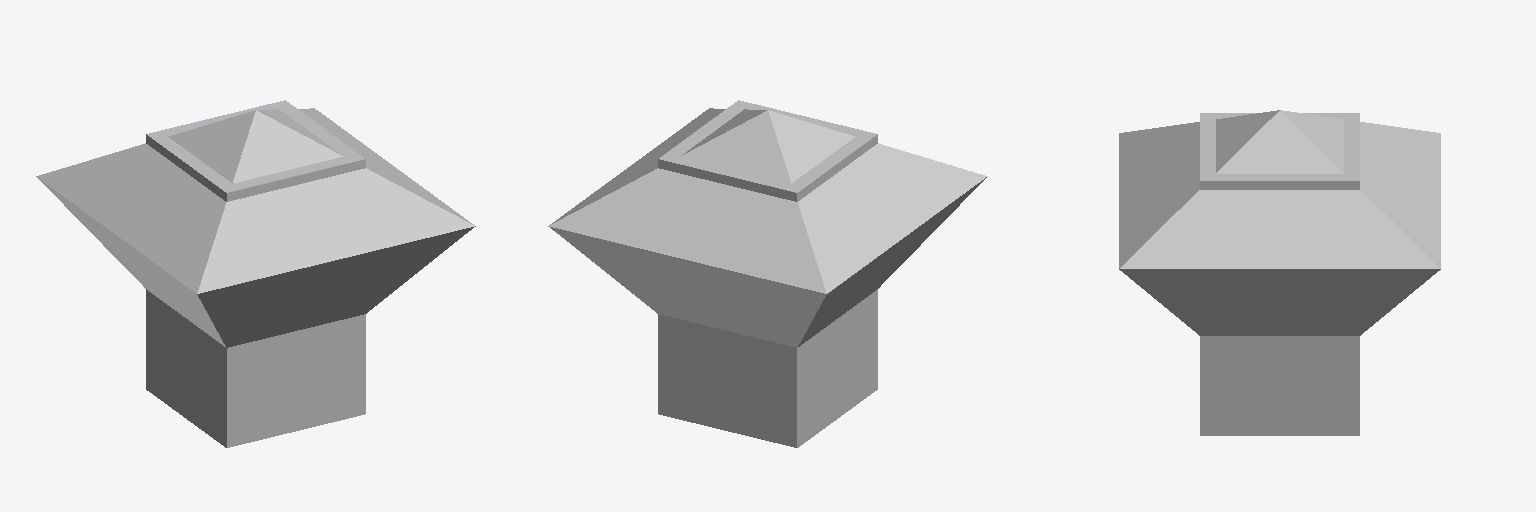
Rendered from block_woodburner.obj.
3 views of the same model, side by side, from view 1: azimuth 30°, elevation 25°; view 2: azimuth 150°, elevation 25°; view 3: azimuth 270°, elevation 25° (orthographic).
Parts seen in each view (by area): view 1: p2yramid, p1yramid, c3ube, cu1be, c2ube, cu4be; view 2: p2yramid, p1yramid, cu4be, cu1be, c3ube, c2ube; view 3: p2yramid, c2ube, p1yramid, cu4be, c3ube.
Part boxes in pixels (x1,y1,x2,y2): p2yramid: (36, 108, 474, 293); p1yramid: (37, 177, 475, 347); c3ube: (216, 157, 348, 447); cu1be: (146, 130, 229, 439); c2ube: (282, 107, 365, 417); cu4be: (164, 100, 294, 135); p2yramid: (549, 108, 987, 293); p1yramid: (548, 177, 986, 347); cu4be: (658, 152, 786, 443); cu1be: (780, 138, 867, 447); c3ube: (749, 104, 877, 395); c2ube: (668, 100, 755, 154); p2yramid: (1119, 110, 1440, 268); c2ube: (1200, 172, 1339, 435); p1yramid: (1119, 269, 1440, 335); cu4be: (1340, 121, 1359, 435); c3ube: (1200, 113, 1219, 171).
Size of the model in its own units: 1 by 1 by 1.